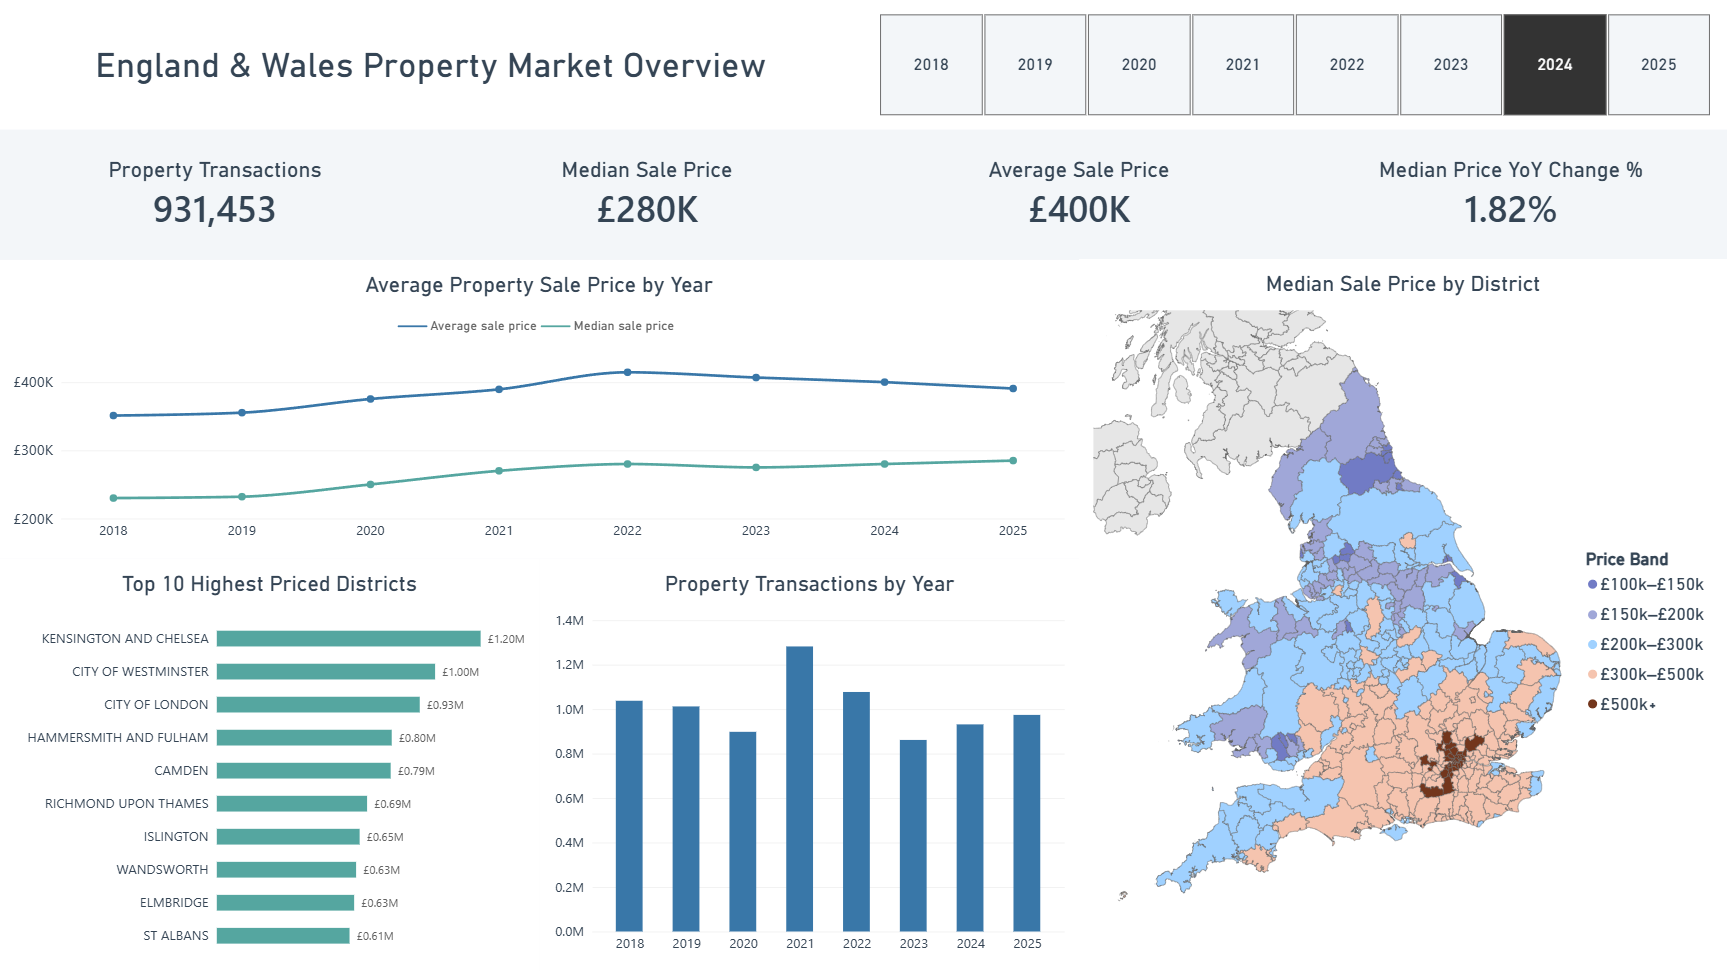

Layout of this report page (visuals, bound fields, positions):
{"tool":"powerbi","page":{"name":"Page 1","canvas":[1920,1080],"ordinal":0},"visuals":[{"type":"cardVisual","title":"Total Property Transactions","fields":{"Data":["NationalYearSummary.Transaction Count Display"]},"box":[0,144,480,144],"z":0},{"type":"cardVisual","fields":{"Data":["NationalYearSummary.Median Sale Price"]},"box":[480,144,480,144],"z":1000},{"type":"cardVisual","fields":{"Data":["NationalYearSummary.Average Sale Price"]},"box":[960,144,480,144],"z":2000},{"type":"cardVisual","fields":{"Data":["NationalYearSummary.Median Price YoY Change %"]},"box":[1440,144,480,144],"z":3000},{"type":"clusteredColumnChart","title":"Property Transactions by Year","fields":{"Category":["PowerBI_DistrictMarket.Year"],"Y":["Sum(PowerBI_DistrictMarket.TransactionCount)"]},"box":[601.1,621.1,598.9,458.9],"z":5000},{"type":"clusteredBarChart","title":"Top 10 Highest Priced Districts","fields":{"Category":["PowerBI_DistrictMarket.District"],"Y":["Avg(PowerBI_DistrictMarket.MedianPrice)"]},"box":[0,621.1,601.1,458.9],"z":6000},{"type":"slicer","fields":{"Values":["NationalYearSummary.Year"]},"box":[960,0,960,144],"z":7000},{"type":"shapeMap","title":"Median Sale Price by District","fields":{"Category":["PowerBI_DistrictMarket.DistrictCode"],"Series":["PowerBI_DistrictMarket.Price Band"],"Value":["Avg(PowerBI_DistrictMarket.MedianPrice)"]},"box":[1200,288,720,792],"z":8000},{"type":"cardVisual","fields":{"Data":["NationalYearSummary.Dashboard Title"]},"box":[0,0,960,144],"z":9000},{"type":"lineChart","title":"Average Property Sale Price by Year","fields":{"Category":["NationalYearSummary.Year"],"Y":["Avg(NationalYearSummary.AverageSalePrice)","Avg(NationalYearSummary.MedianSalePrice)"]},"box":[0,288.9,1200,332.2],"z":10500}]}

Visuals, with their boxes in screenshot pixels (x1, y1, x2, y2), scaled from the page's 1920x1080 canvas onto the 1727x971 screenshot:
"Total Property Transactions" cardVisual: 0,129,432,259
cardVisual - NationalYearSummary.Median Sale Price: 432,129,864,259
cardVisual - NationalYearSummary.Average Sale Price: 864,129,1295,259
cardVisual - NationalYearSummary.Median Price YoY Change %: 1295,129,1726,259
"Property Transactions by Year" clusteredColumnChart: 541,558,1079,970
"Top 10 Highest Priced Districts" clusteredBarChart: 0,558,541,970
slicer - NationalYearSummary.Year: 864,0,1726,129
"Median Sale Price by District" shapeMap: 1079,259,1726,970
cardVisual - NationalYearSummary.Dashboard Title: 0,0,864,129
"Average Property Sale Price by Year" lineChart: 0,260,1079,558
